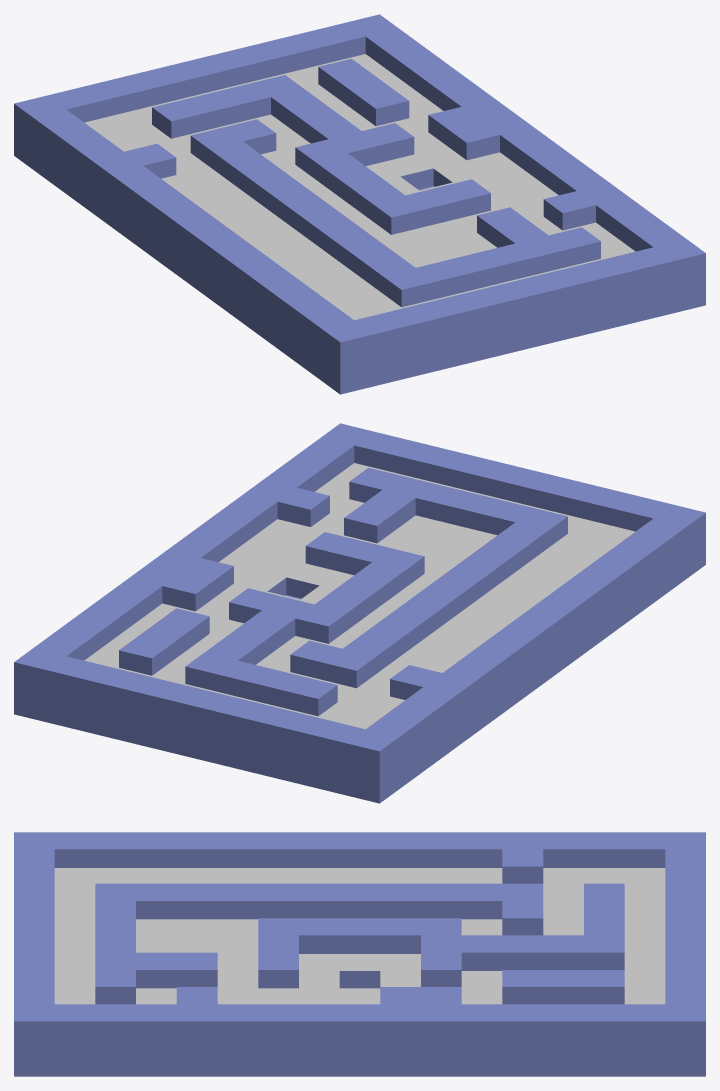
The model's file is 099_platform.fbx.
The picture shows the model from 3 angles, top to bottom: view 1: azimuth 30°, elevation 25°; view 2: azimuth 150°, elevation 25°; view 3: azimuth 270°, elevation 25°; orthographic projection. The views are drawn at different scales.
Visible parts, largest first — view 1: Grid; view 2: Grid; view 3: Grid.
Boxes of the visible parts, x1,y1,x2,y2 form: Grid: (14, 14, 705, 394); Grid: (14, 423, 705, 803); Grid: (14, 832, 705, 1076).
Bounding box in the file's own units: 1100 × 150 × 1700.
